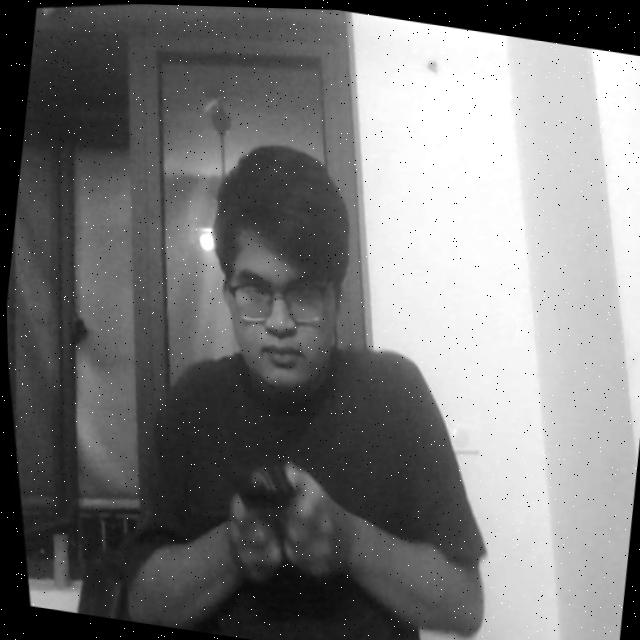phone: (217, 435, 329, 536)
